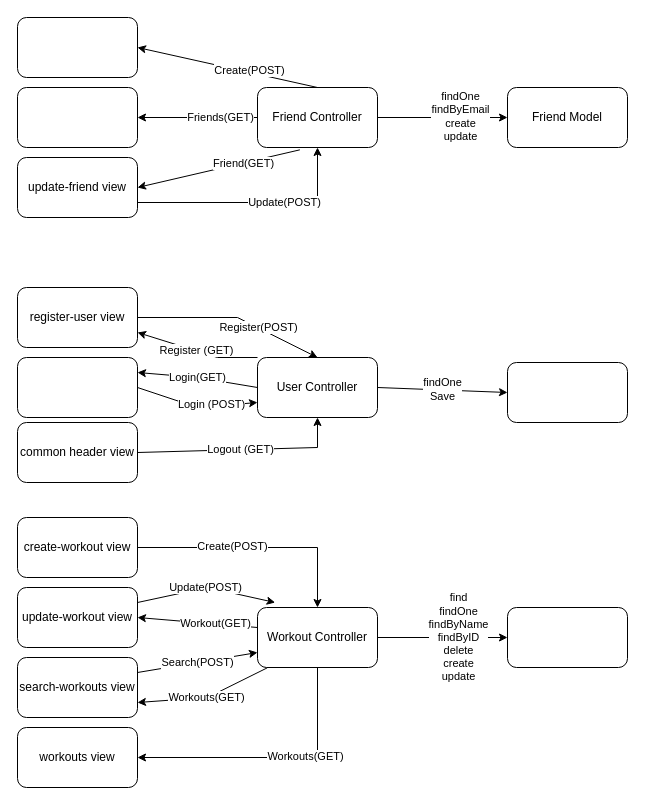
Image size: 645x805. Some labels were removed from this diagram. Here are the shapes that lost their labels. From the top down, the box of each, then its label:
(16, 16, 138, 78): create-friend view
(16, 86, 138, 148): friends view
(16, 356, 138, 418): login-user view
(506, 362, 628, 422): User Model
(506, 606, 628, 668): Workout Model
